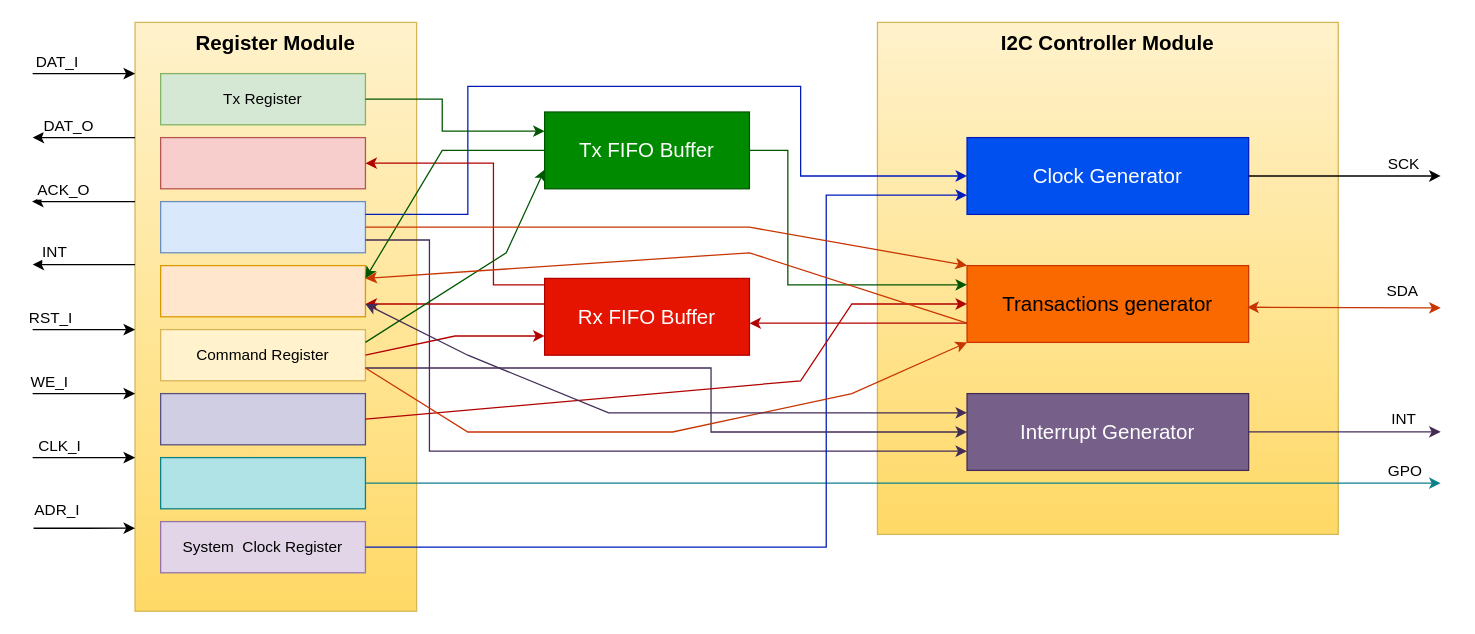
Image size: 1475x634. Some labels were removed from this diagram. Here are the shapes that lost their labels. From the top down, the box of each, then its label:
(159, 136, 365, 189): Rx Register
(159, 200, 365, 253): Control Register
(159, 264, 365, 317): Status Register
(159, 392, 365, 445): Slave Address Register
(159, 456, 365, 509): GPO Register
